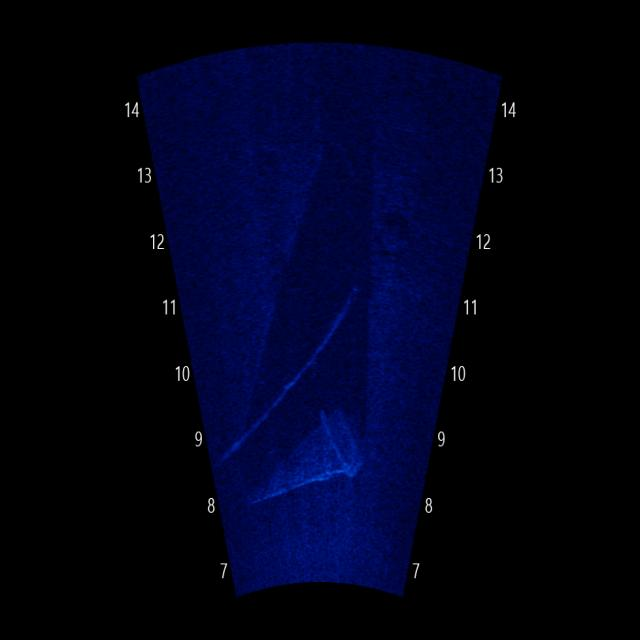circle: (372, 199, 420, 266)
triangle: (230, 402, 371, 514)
